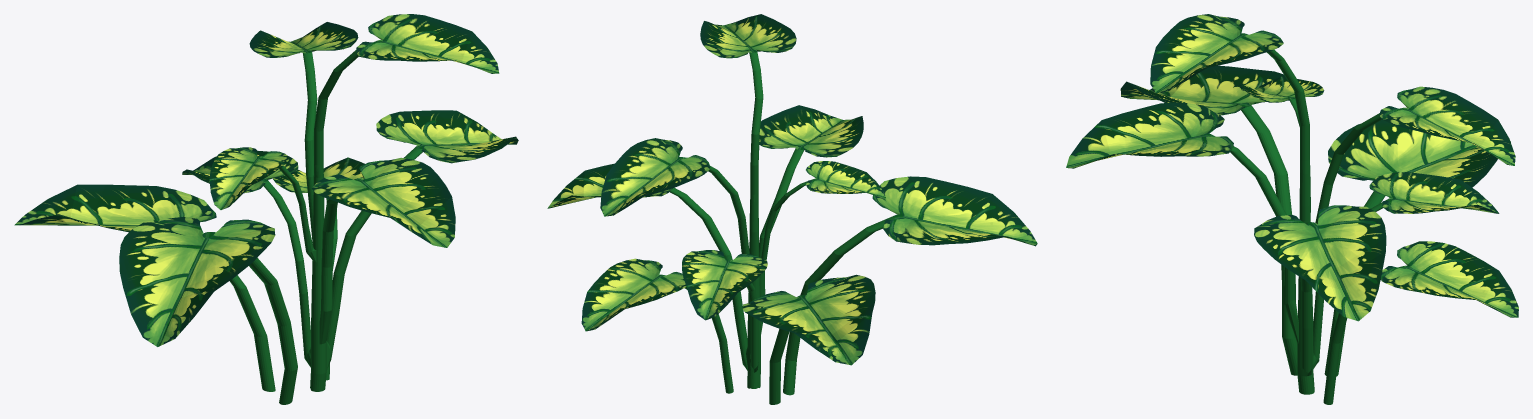
File: floorplant1.fbx
The picture shows the model from 3 angles, left to right: view 1: azimuth 30°, elevation 25°; view 2: azimuth 150°, elevation 25°; view 3: azimuth 270°, elevation 25°; orthographic projection. The views are drawn at different scales.
Visible parts, largest first — view 1: floor plant 1; view 2: floor plant 1; view 3: floor plant 1.
Part boxes in pixels (bbox=[...]): floor plant 1: bbox=[14, 14, 518, 404]; floor plant 1: bbox=[547, 14, 1037, 404]; floor plant 1: bbox=[1066, 14, 1518, 404].
Size of the model in its own units: 97.87 by 74.21 by 79.57.
